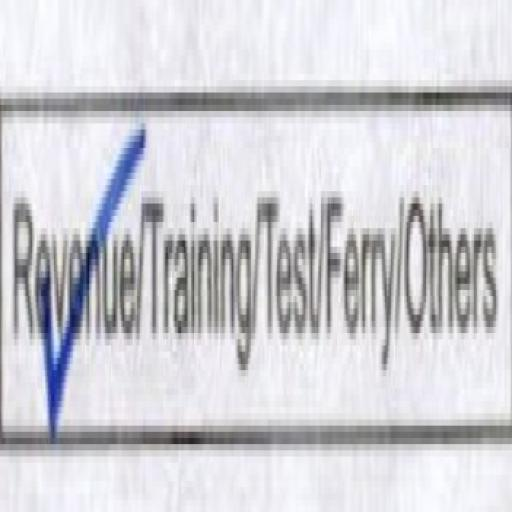check: (0, 39, 138, 503)
